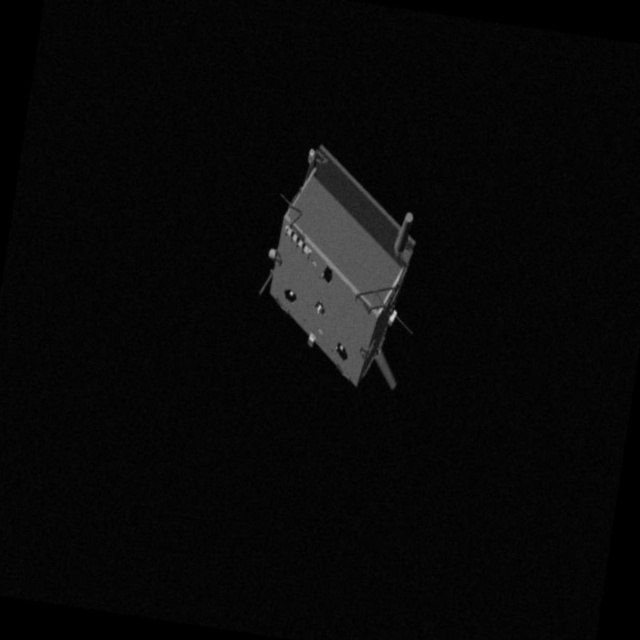medium_debris: (251, 137, 433, 396)
